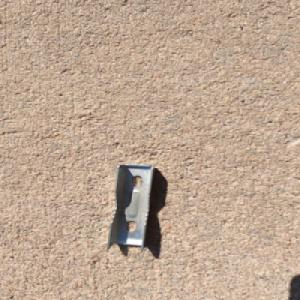ClampPart: (104, 163, 158, 254)
